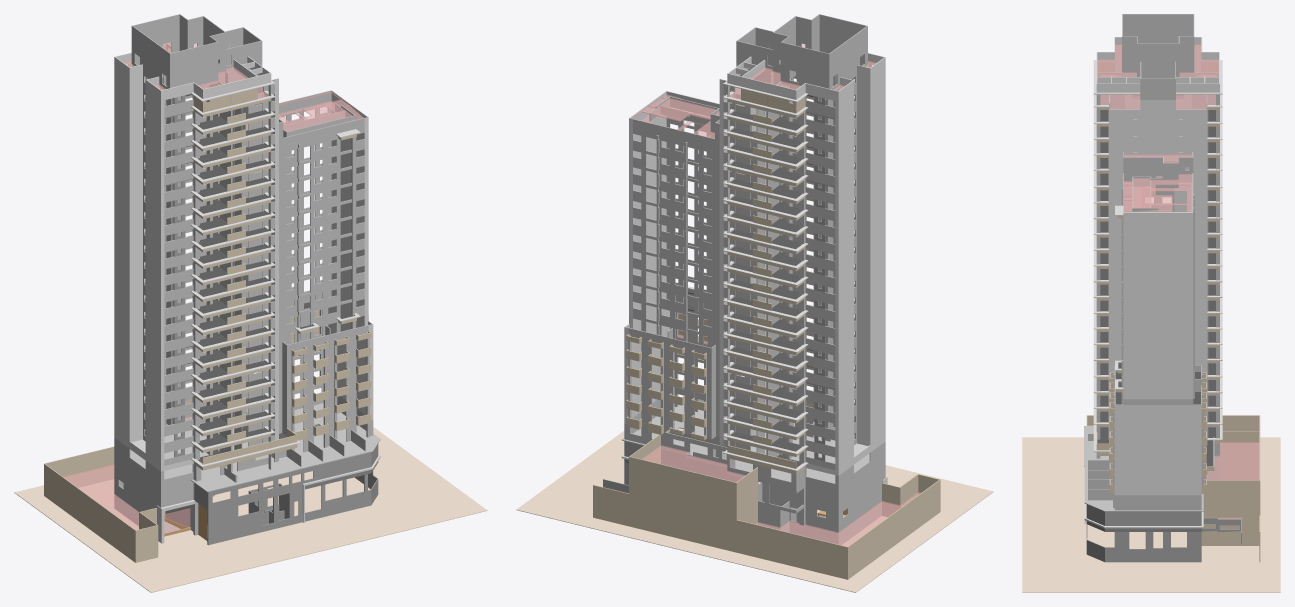
Rendered from Archtech - AR16 (3D).glb.
3 views of the same model, side by side, from view 1: azimuth 30°, elevation 25°; view 2: azimuth 150°, elevation 25°; view 3: azimuth 270°, elevation 25° (orthographic). The views are drawn at different scales.
Visible parts, largest first — view 1: 3DGeom-1, 3DGeom-3, 3DGeom-6, 3DGeom-2, 3DGeom-7, 3DGeom-11, 3DGeom-9; view 2: 3DGeom-1, 3DGeom-3, 3DGeom-2, 3DGeom-6, 3DGeom-11, 3DGeom-9, 3DGeom-7; view 3: 3DGeom-3, 3DGeom-6, 3DGeom-1, 3DGeom-2, 3DGeom-9, 3DGeom-7, 3DGeom-11, 3DGeom-8.
Part boxes in pixels (box(x1,y1,x2,y2)): 3DGeom-1: box(114, 14, 380, 535); 3DGeom-3: box(114, 42, 380, 543); 3DGeom-6: box(14, 427, 487, 592); 3DGeom-2: box(44, 45, 371, 562); 3DGeom-7: box(144, 78, 378, 545); 3DGeom-11: box(144, 78, 353, 463); 3DGeom-9: box(63, 42, 363, 532); 3DGeom-1: box(621, 14, 885, 544); 3DGeom-3: box(621, 44, 887, 501); 3DGeom-2: box(593, 74, 940, 579); 3DGeom-6: box(516, 428, 993, 592); 3DGeom-11: box(669, 78, 854, 467); 3DGeom-9: box(631, 43, 920, 546); 3DGeom-7: box(603, 79, 855, 493); 3DGeom-3: box(1084, 37, 1222, 528); 3DGeom-6: box(1022, 437, 1280, 592); 3DGeom-1: box(1084, 14, 1219, 511); 3DGeom-2: box(1086, 62, 1260, 562); 3DGeom-9: box(1097, 44, 1259, 519); 3DGeom-7: box(1086, 504, 1241, 562); 3DGeom-11: box(1097, 110, 1215, 466); 3DGeom-8: box(1086, 521, 1201, 531).
Bounding box in the file's own units: 1.71 × 2.4 × 1.21.
